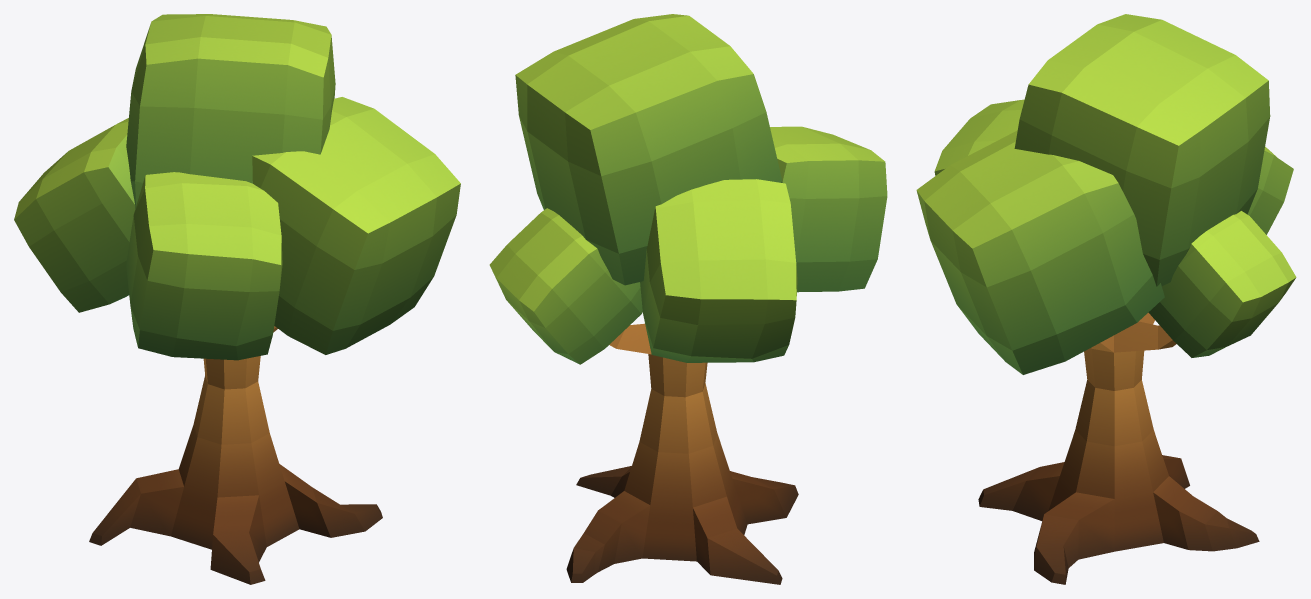
File: Tree02.fbx
The picture shows the model from 3 angles, left to right: view 1: azimuth 30°, elevation 25°; view 2: azimuth 150°, elevation 25°; view 3: azimuth 270°, elevation 25°; orthographic projection. The views are drawn at different scales.
Parts seen in each view (by area): view 1: Arvore01; view 2: Arvore01; view 3: Arvore01.
Part boxes in pixels (x1,y1,x2,y2): Arvore01: (14,14,460,584); Arvore01: (489,14,887,584); Arvore01: (916,14,1296,584).
Size of the model in its own units: 538 by 768 by 544.
